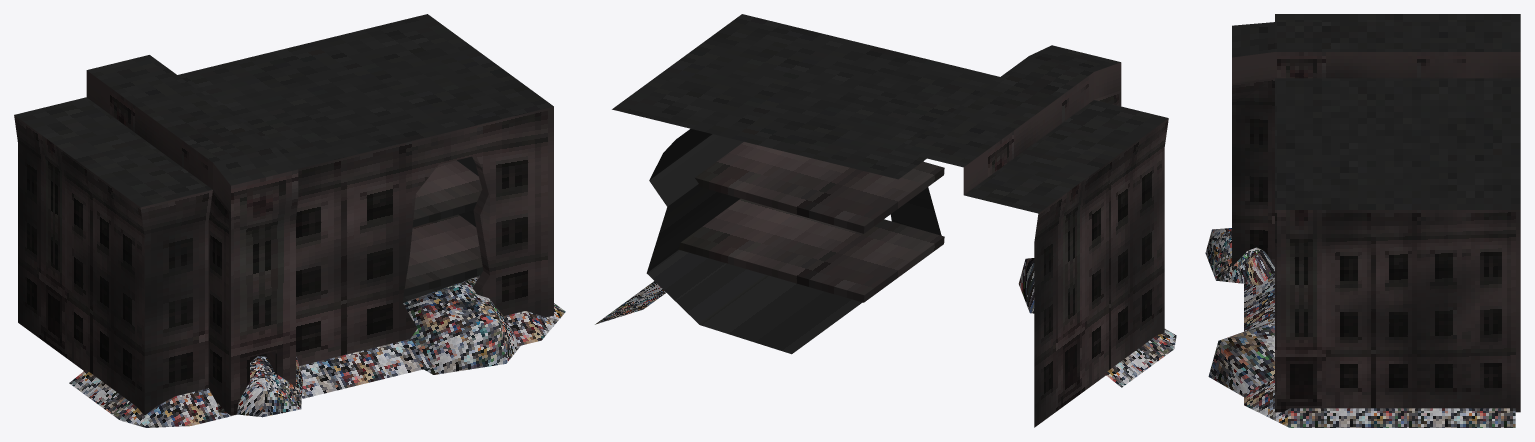
File: env_bld_civic_poor.glb
3 views of the same model, side by side, from view 1: azimuth 30°, elevation 25°; view 2: azimuth 150°, elevation 25°; view 3: azimuth 270°, elevation 25° (orthographic). The views are drawn at different scales.
Parts seen in each view (by area): view 1: env_bld_civic_poor; view 2: env_bld_civic_poor; view 3: env_bld_civic_poor.
Part boxes in pixels (x1,y1,x2,y2): env_bld_civic_poor: [14, 14, 565, 427]; env_bld_civic_poor: [595, 14, 1176, 427]; env_bld_civic_poor: [1205, 14, 1520, 427].
Bounding box in the file's own units: 0.0528 × 0.0282 × 0.0333.
Materials: 4 (4 with a texture image).
